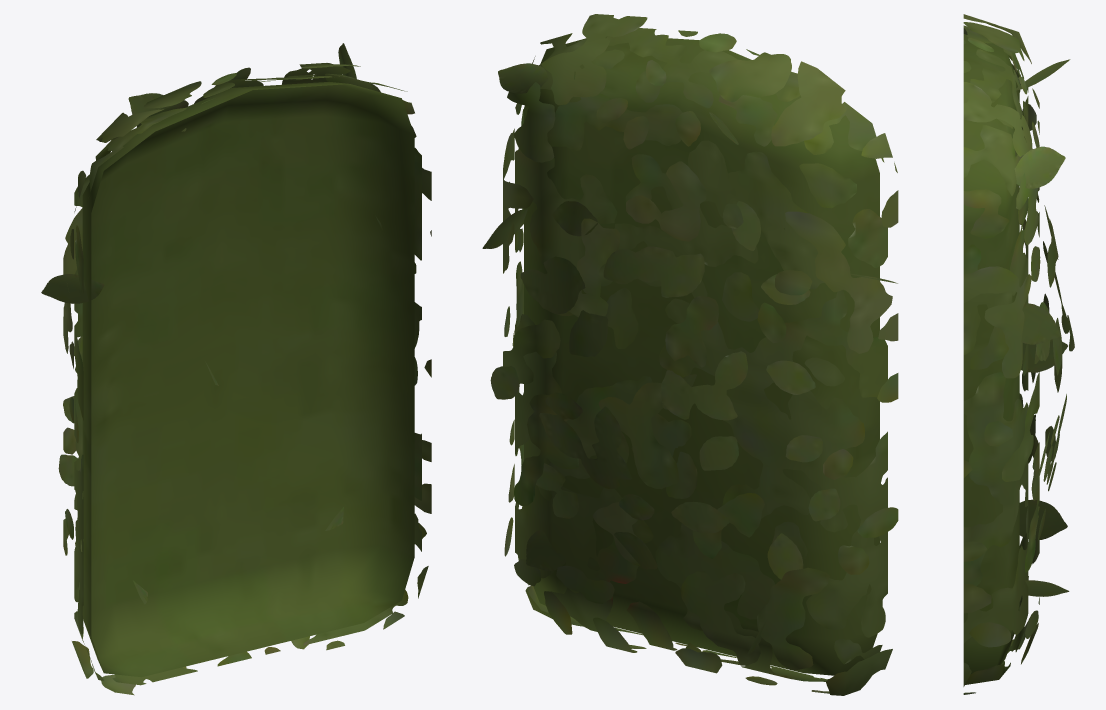
The picture shows the model from 3 angles, left to right: view 1: azimuth 30°, elevation 25°; view 2: azimuth 150°, elevation 25°; view 3: azimuth 270°, elevation 25°; orthographic projection. The views are drawn at different scales.
Visible parts, largest first — view 1: body0_model0_lod0_mesh0; view 2: body0_model0_lod0_mesh0; view 3: body0_model0_lod0_mesh0.
Boxes of the visible parts, box(x1,y1,x2,y2) form: body0_model0_lod0_mesh0: box(41, 43, 431, 695); body0_model0_lod0_mesh0: box(482, 14, 898, 695); body0_model0_lod0_mesh0: box(963, 14, 1074, 694).
Bounding box in the file's own units: 39.6 × 56.41 × 11.56.
Materials: 1 (1 with a texture image).
